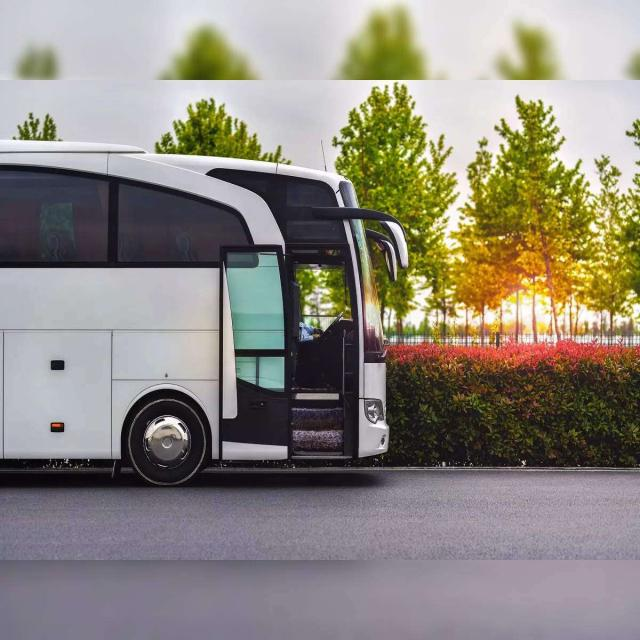bus: (0, 140, 409, 485)
